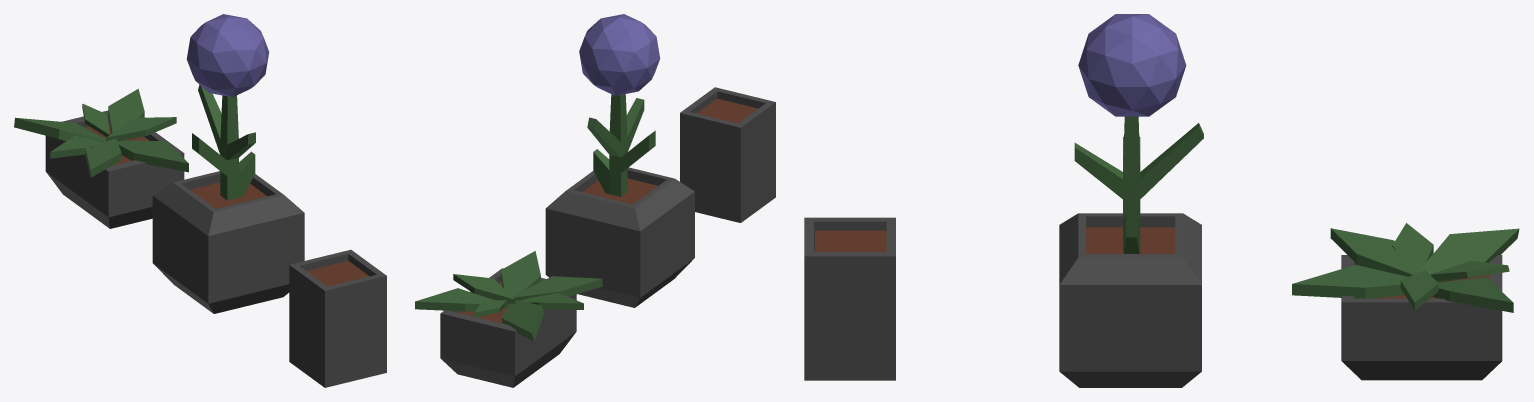
Rendered from plant2.fbx.
3 renders of one model, left to right at view 1: azimuth 30°, elevation 25°; view 2: azimuth 150°, elevation 25°; view 3: azimuth 270°, elevation 25°, orthographic. The views are drawn at different scales.
Visible parts, largest first — view 1: Pot1, Pot 3, Pot2, Flower, Plant1, Leef.003, Leef.005, Leef.004, Leef.002, Leef, Dirt.002, Dirt (+2 smaller); view 2: Pot1, Pot 3, Pot2, Flower, Plant1, Leef, Leef.003, Leef.002, Leef.005, Leef.004, Dirt.002, Dirt (+2 smaller); view 3: Pot1, Pot 3, Pot2, Flower, Plant1, Leef.003, Leef.005, Leef, Dirt, Leef.002, Dirt.002, Leef.001 (+2 smaller).
Boxes of the visible parts, x1,y1,x2,y2 form: Pot1: [152, 171, 304, 313]; Pot 3: [289, 249, 386, 387]; Pot2: [45, 110, 184, 228]; Flower: [186, 14, 269, 97]; Plant1: [192, 85, 255, 200]; Leef.003: [117, 140, 188, 172]; Leef.005: [14, 117, 105, 142]; Leef.004: [106, 117, 176, 141]; Leef.002: [108, 88, 144, 133]; Leef: [85, 139, 121, 177]; Dirt.002: [306, 261, 369, 286]; Dirt: [190, 182, 266, 208]; Pot1: [545, 167, 694, 307]; Pot 3: [680, 87, 775, 222]; Pot2: [440, 268, 576, 387]; Flower: [579, 14, 660, 95]; Plant1: [587, 94, 655, 196]; Leef: [512, 276, 602, 300]; Leef.003: [501, 251, 540, 308]; Leef.002: [415, 288, 506, 311]; Leef.005: [501, 300, 543, 341]; Leef.004: [453, 274, 515, 304]; Dirt.002: [697, 98, 757, 123]; Dirt: [582, 178, 657, 204]; Pot1: [1059, 213, 1201, 387]; Pot 3: [804, 217, 895, 380]; Pot2: [1341, 255, 1502, 380]; Flower: [1078, 14, 1186, 116]; Plant1: [1074, 116, 1203, 253]; Leef.003: [1292, 265, 1407, 298]; Leef.005: [1418, 228, 1519, 282]; Leef: [1330, 228, 1416, 276]; Dirt: [1086, 227, 1175, 253]; Leef.002: [1432, 277, 1513, 312]; Dirt.002: [815, 230, 886, 252]; Leef.001: [1392, 223, 1433, 272].
Bounding box in the file's own units: 256 × 515 × 953.
